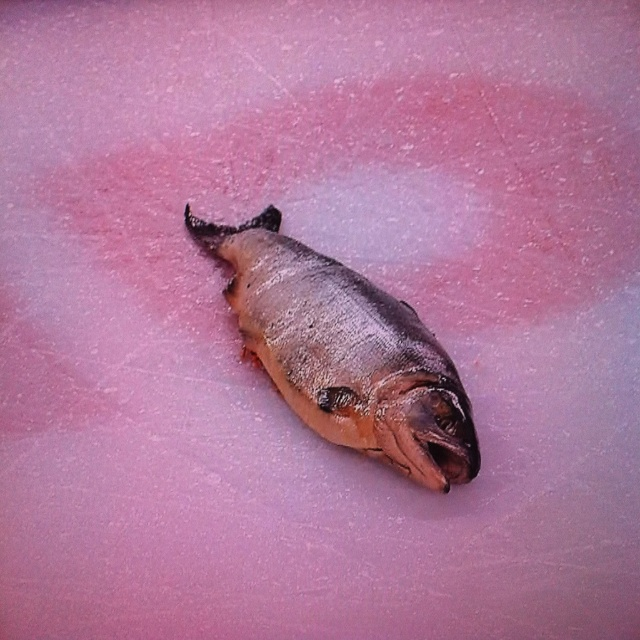Fish: (168, 221, 481, 509)
